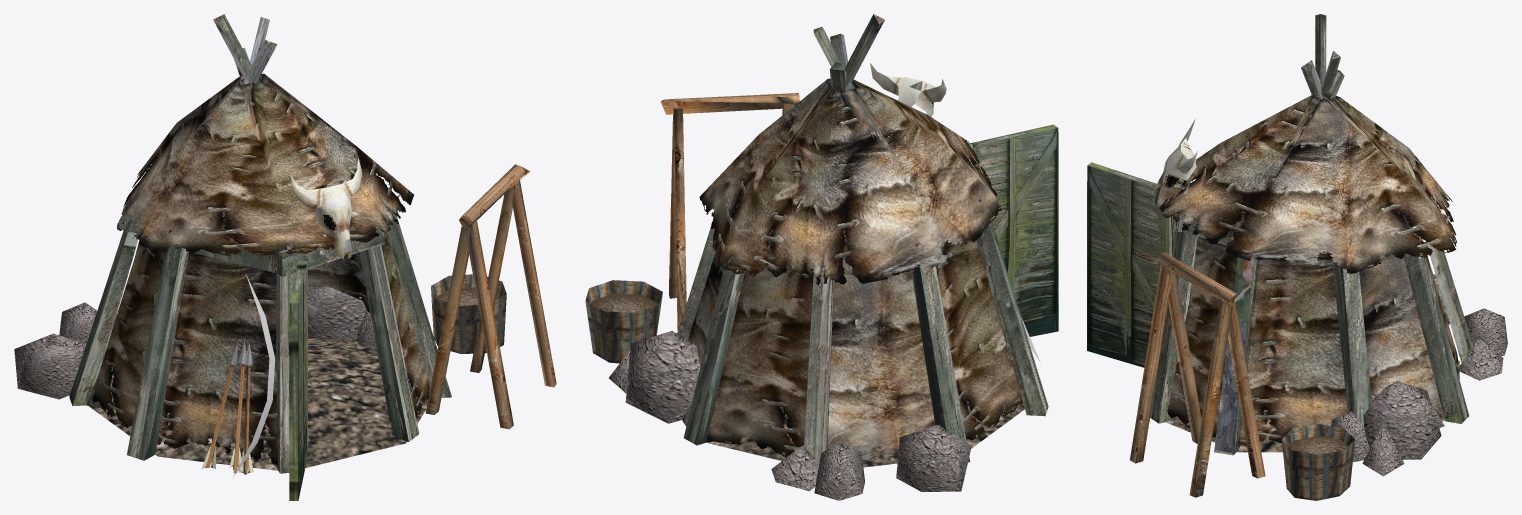
The model's file is building_hunters_post.glb.
3 renders of one model, left to right at view 1: azimuth 30°, elevation 25°; view 2: azimuth 150°, elevation 25°; view 3: azimuth 270°, elevation 25°, orthographic. The views are drawn at different scales.
Visible parts, largest first — view 1: building_hunters_post; view 2: building_hunters_post; view 3: building_hunters_post.
Boxes of the visible parts, x1,y1,x2,y2 form: building_hunters_post: (14,14,556,500); building_hunters_post: (585,14,1058,500); building_hunters_post: (1087,14,1507,500).
Bounding box in the file's own units: 4.2 × 3.66 × 3.86.
11 materials, 10 textured.
